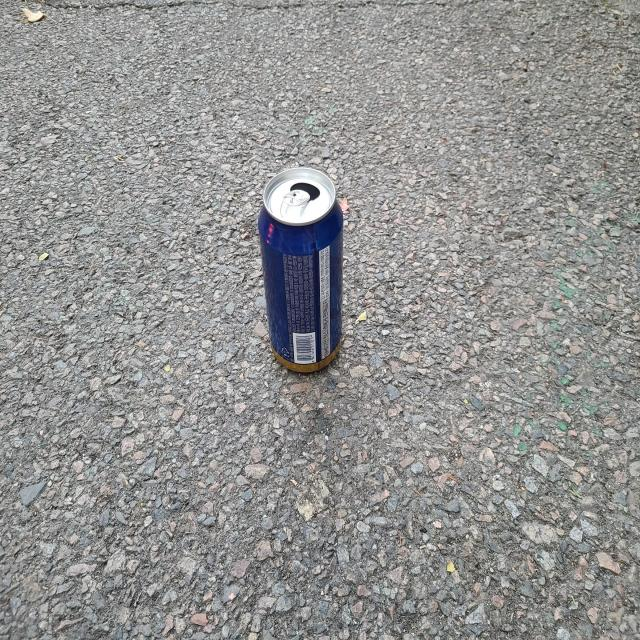can: (258, 167, 343, 372)
